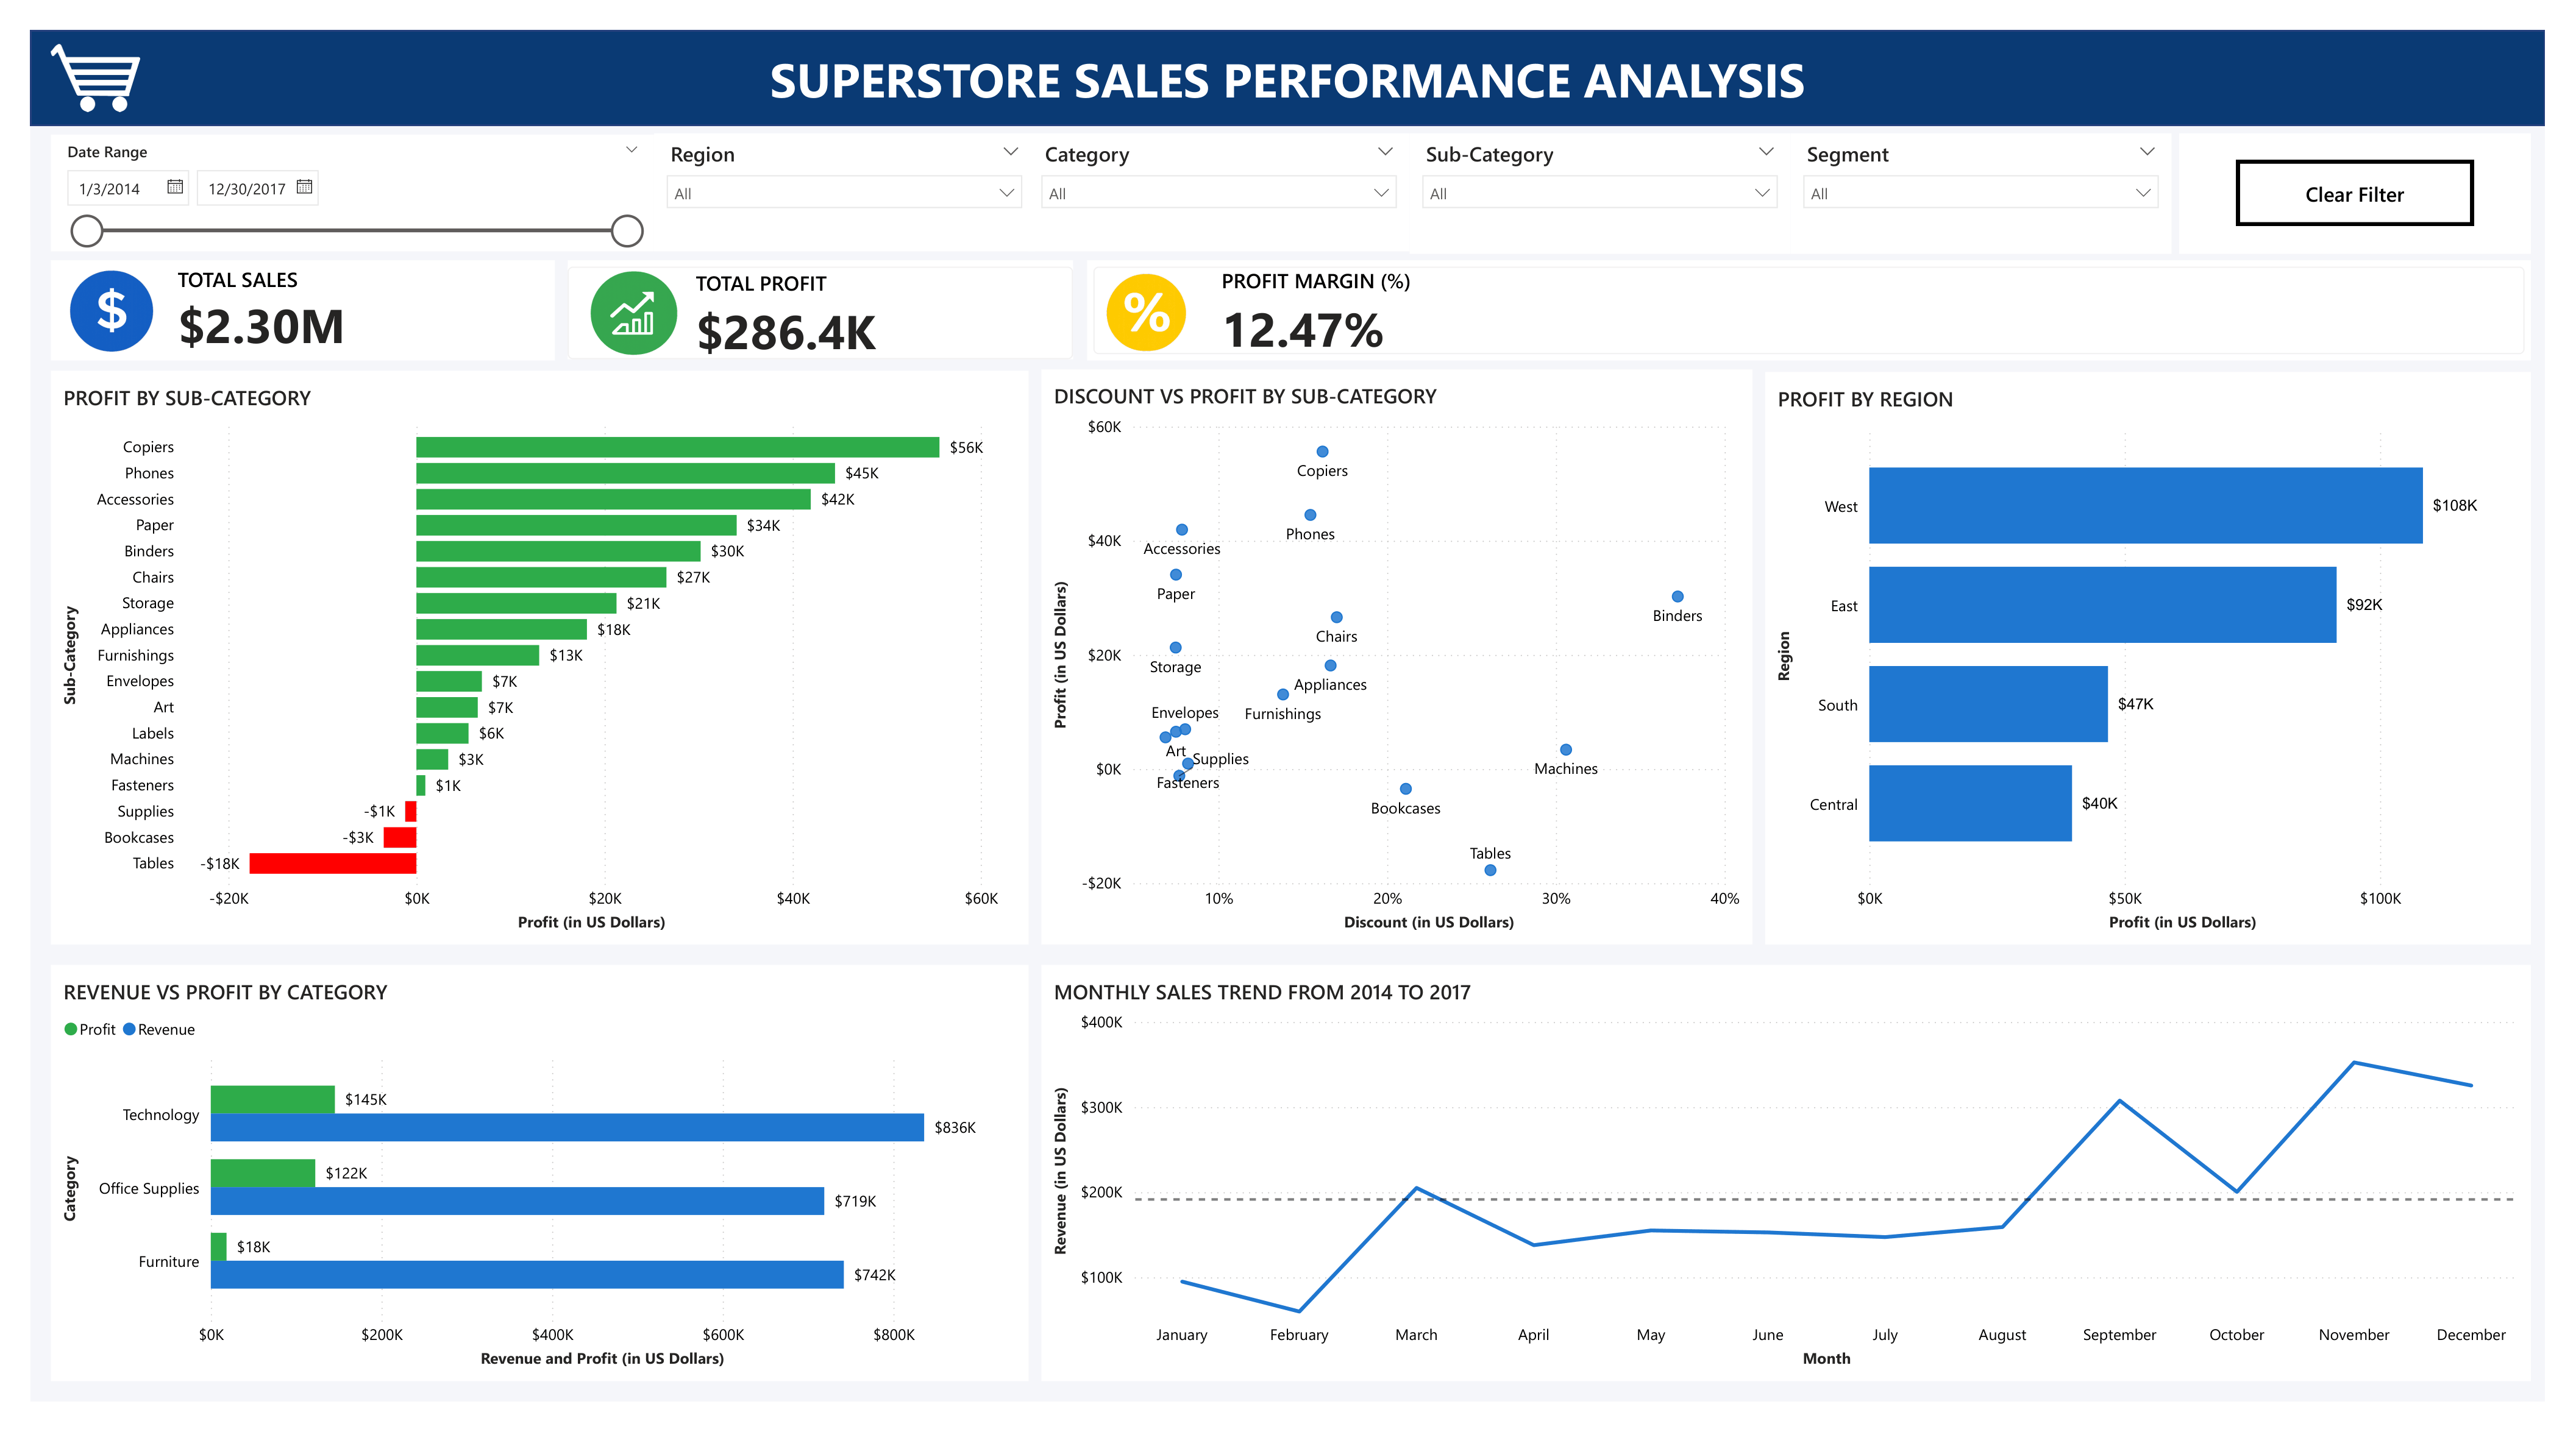

The dashboard page shown, as its layout file describes it:
{"tool":"powerbi","page":{"name":"Page 1","canvas":[1980,1080],"ordinal":0},"visuals":[{"type":"cardVisual","title":"TOTAL SALES","fields":{"Data":["Sum(Sample_ Superstore.Sales)"]},"box":[15.7,181.4,397.1,78.6],"z":0},{"type":"cardVisual","title":"TOTAL PROFIT","fields":{"Data":["Sum(Sample_ Superstore.Profit)"]},"box":[423,181,398,78],"z":1000},{"type":"cardVisual","title":"PROFIT MARGIN","fields":{"Data":["Sample_ Superstore.Profit Margin %"]},"box":[832,181,1137,79],"z":2000},{"type":"clusteredBarChart","title":"PROFIT BY SUB-CATEGORY","fields":{"Category":["Sample_ Superstore.Sub-Category"],"Y":["Sum(Sample_ Superstore.Profit)"]},"box":[16,268,770,452],"z":3000},{"type":"clusteredBarChart","title":"REVENUE VS PROFIT BY CATEGORY","fields":{"Category":["Sample_ Superstore.Category"],"Y":["Sum(Sample_ Superstore.Profit)","Sum(Sample_ Superstore.Sales)"]},"box":[15.7,735.7,770,328.6],"z":4000},{"type":"lineChart","title":"MONTHLY SALES TREND FROM 2014 TO 2017","fields":{"Y":["Sum(Sample_ Superstore.Sales)"],"Category":["Sample_ Superstore.Order Date.Variation.Date Hierarchy.Year","Sample_ Superstore.Order Date.Variation.Date Hierarchy.Quarter","Sample_ Superstore.Order Date.Variation.Date Hierarchy.Month","Sample_ Superstore.Order Date.Variation.Date Hierarchy.Day"]},"box":[795.7,735.7,1172.9,328.6],"z":5000},{"type":"scatterChart","title":"DISCOUNT VS PROFIT BY SUB-CATEGORY","fields":{"X":["Avg(Sample_ Superstore.Discount)"],"Y":["Sum(Sample_ Superstore.Profit)"],"Category":["Sample_ Superstore.Sub-Category"]},"box":[795.7,267.1,560,452.9],"z":6000},{"type":"clusteredBarChart","title":"PROFIT BY REGION","fields":{"Category":["Sample_ Superstore.Region"],"Y":["Sum(Sample_ Superstore.Profit)"]},"box":[1365.7,268.6,602.9,451.4],"z":7000},{"type":"shape","box":[0,0,1980,75],"z":8000},{"type":"slicer","fields":{"Values":["Sample_ Superstore.Order Date"]},"box":[16,82,475,92],"z":9000},{"type":"slicer","fields":{"Values":["Sample_ Superstore.Region"]},"box":[491,81,300,93],"z":10000},{"type":"slicer","fields":{"Values":["Sample_ Superstore.Category"]},"box":[786.2,80.8,300,93.1],"z":11000},{"type":"slicer","fields":{"Values":["Sample_ Superstore.Sub-Category"]},"box":[1086.2,80.8,300,95.4],"z":12000},{"type":"slicer","fields":{"Values":["Sample_ Superstore.Segment"]},"box":[1386.2,80.8,300,95.4],"z":13000},{"type":"shape","box":[1691.5,80.8,277.7,95.4],"z":14000},{"type":"actionButton","box":[1736.9,102.3,186.9,51.5],"z":15000},{"type":"image","box":[15.8,6.7,70,60.8],"z":16000},{"type":"image","box":[841.4,184.3,80,81.4],"z":17000},{"type":"image","box":[25.7,187.1,74.3,67.1],"z":18000},{"type":"image","box":[435.7,185.7,78.6,71.4],"z":19000}]}

Visuals, with their boxes on the page's 1980x1080 design canvas (x1, y1, x2, y2). These are canvas units, not pixel positions in the 2576x1432 screenshot, which may show the page scaled, cropped or inside an application window:
"TOTAL SALES" cardVisual: 16, 181, 413, 260
"TOTAL PROFIT" cardVisual: 423, 181, 821, 259
"PROFIT MARGIN" cardVisual: 832, 181, 1969, 260
"PROFIT BY SUB-CATEGORY" clusteredBarChart: 16, 268, 786, 720
"REVENUE VS PROFIT BY CATEGORY" clusteredBarChart: 16, 736, 786, 1064
"MONTHLY SALES TREND FROM 2014 TO 2017" lineChart: 796, 736, 1969, 1064
"DISCOUNT VS PROFIT BY SUB-CATEGORY" scatterChart: 796, 267, 1356, 720
"PROFIT BY REGION" clusteredBarChart: 1366, 269, 1969, 720
shape: 0, 0, 1980, 75
slicer - Sample_ Superstore.Order Date: 16, 82, 491, 174
slicer - Sample_ Superstore.Region: 491, 81, 791, 174
slicer - Sample_ Superstore.Category: 786, 81, 1086, 174
slicer - Sample_ Superstore.Sub-Category: 1086, 81, 1386, 176
slicer - Sample_ Superstore.Segment: 1386, 81, 1686, 176
shape: 1692, 81, 1969, 176
actionButton: 1737, 102, 1924, 154
image: 16, 7, 86, 68
image: 841, 184, 921, 266
image: 26, 187, 100, 254
image: 436, 186, 514, 257
